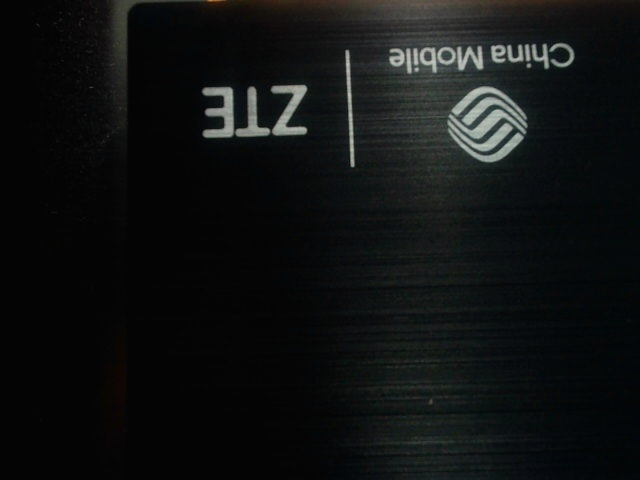AL_ZTEChinaMobile: (184, 27, 583, 179)
